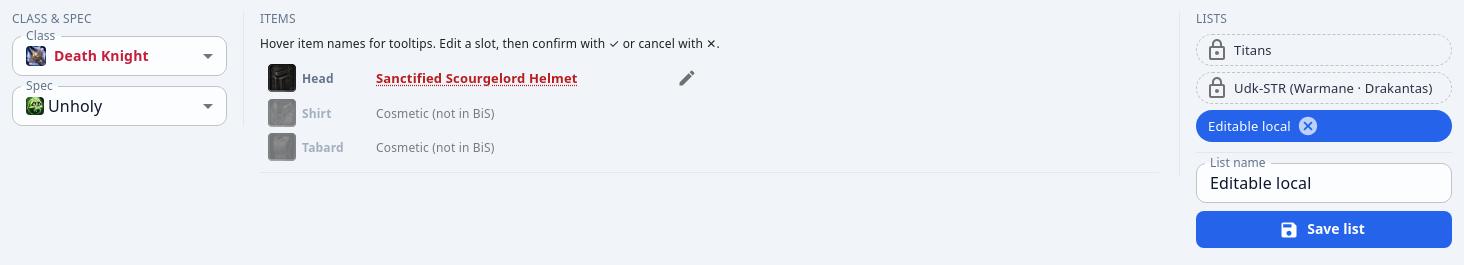
Scenario: BisListsPanel › confirms a slot edit and persists it for a local preset
This screenshot has width=1464, height=265.
Click the button named "Edit Head item" at (686, 78), box left=672, top=63, right=702, bottom=93
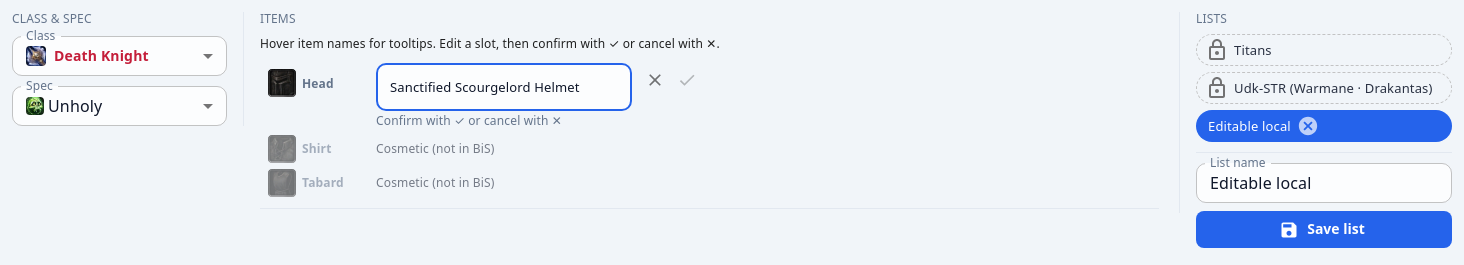
Replace the text in the field with placeholder "Name, id, or #id" with "51312" at (504, 87), box left=376, top=69, right=632, bottom=105
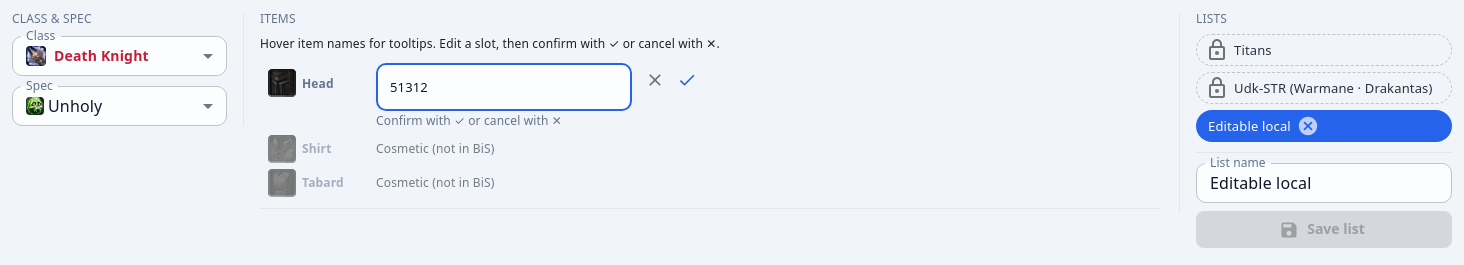
Click the button named "Confirm Head item" at (686, 80), box left=672, top=65, right=702, bottom=95
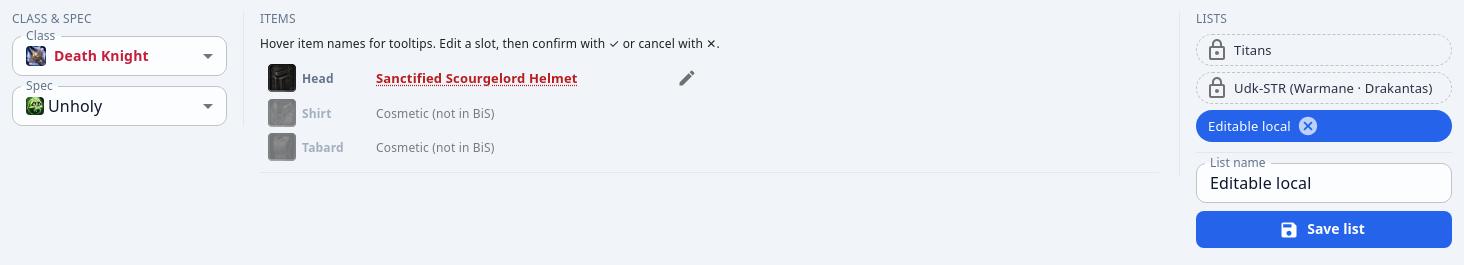
Check: the link "Sanctified Scourgelord Helmet" is shown, box left=376, top=70, right=578, bottom=87
